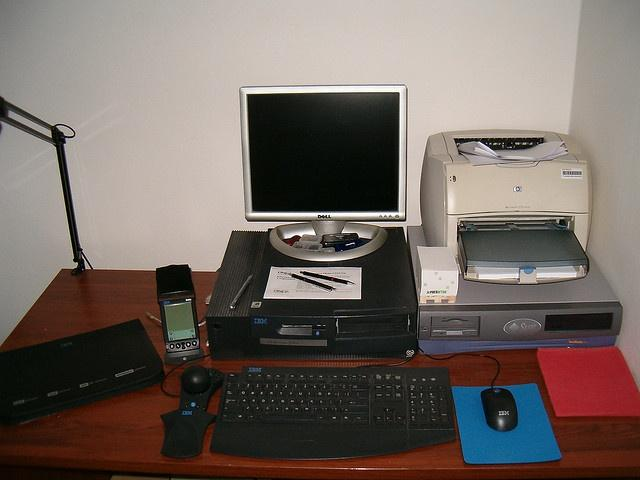AIO PC-Monitor-TV: (238, 83, 408, 227)
Meja: (0, 267, 639, 479)
Printer: (419, 128, 595, 283)
